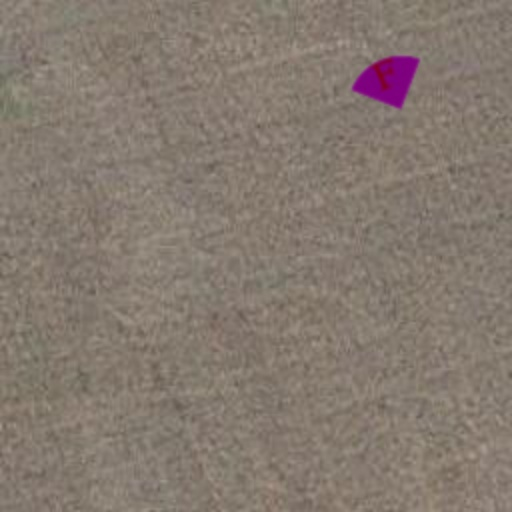quarter_circle: (340, 32, 436, 128)
